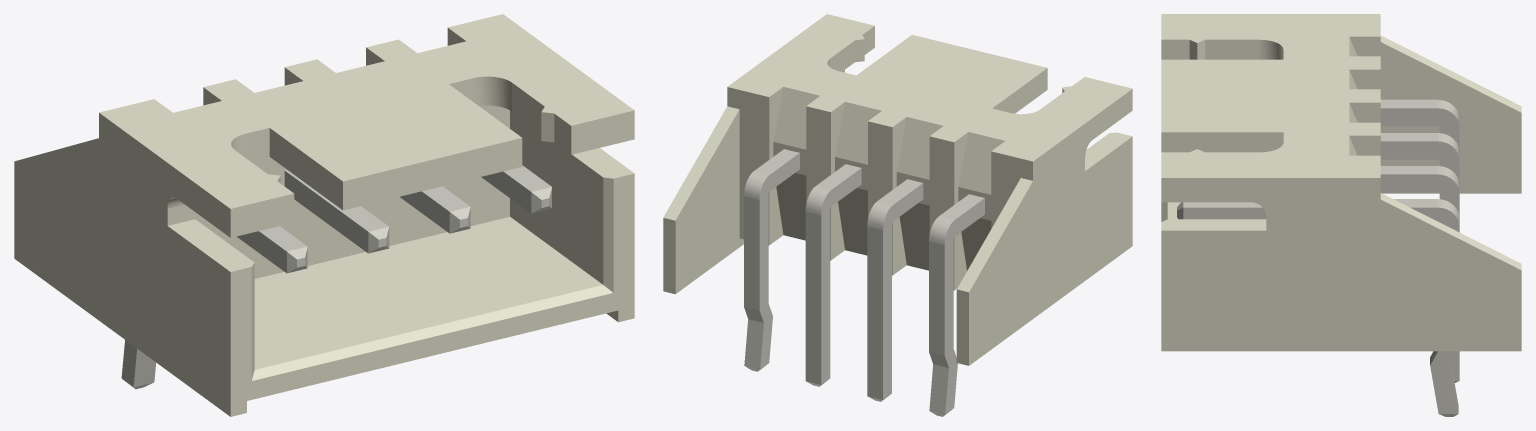
File: kc-jst_xh_s4b-xh-a_1x04_p2.50mm_horizontal.glb
3 views of the same model, side by side, from view 1: azimuth 30°, elevation 25°; view 2: azimuth 150°, elevation 25°; view 3: azimuth 270°, elevation 25° (orthographic). The views are drawn at different scales.
Parts seen in each view (by area): view 1: 0.75_0.75_0.5833333333333334_0, 0.6666666666666666_0.6666666666666666_0.5833333333333334_0.8; view 2: 0.75_0.75_0.5833333333333334_0, 0.6666666666666666_0.6666666666666666_0.5833333333333334_0.8; view 3: 0.75_0.75_0.5833333333333334_0, 0.6666666666666666_0.6666666666666666_0.5833333333333334_0.8.
Part boxes in pixels (x1=…): 0.75_0.75_0.5833333333333334_0: x1=14, y1=14, x2=634, y2=416; 0.6666666666666666_0.6666666666666666_0.5833333333333334_0.8: x1=121, y1=165, x2=551, y2=389; 0.75_0.75_0.5833333333333334_0: x1=663, y1=14, x2=1132, y2=365; 0.6666666666666666_0.6666666666666666_0.5833333333333334_0.8: x1=744, y1=149, x2=984, y2=416; 0.75_0.75_0.5833333333333334_0: x1=1161, y1=14, x2=1521, y2=351; 0.6666666666666666_0.6666666666666666_0.5833333333333334_0.8: x1=1177, y1=99, x2=1459, y2=416.
Bounding box in the file's own units: 1.24 × 0.9499 × 1.15.
